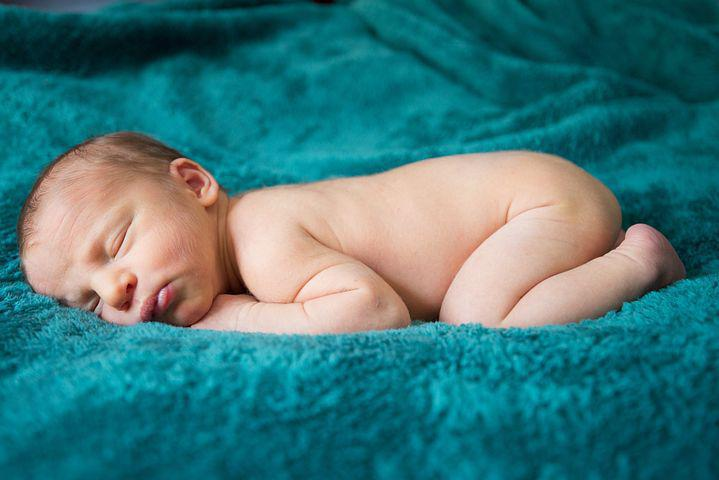child: (9, 117, 700, 343)
